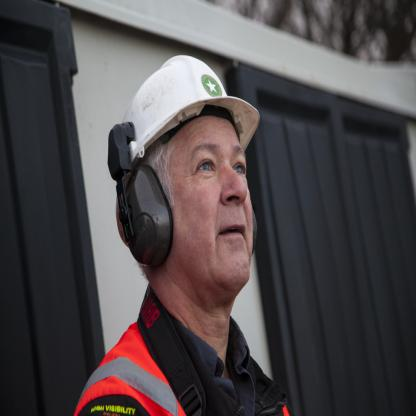Helmet: (107, 51, 260, 278)
